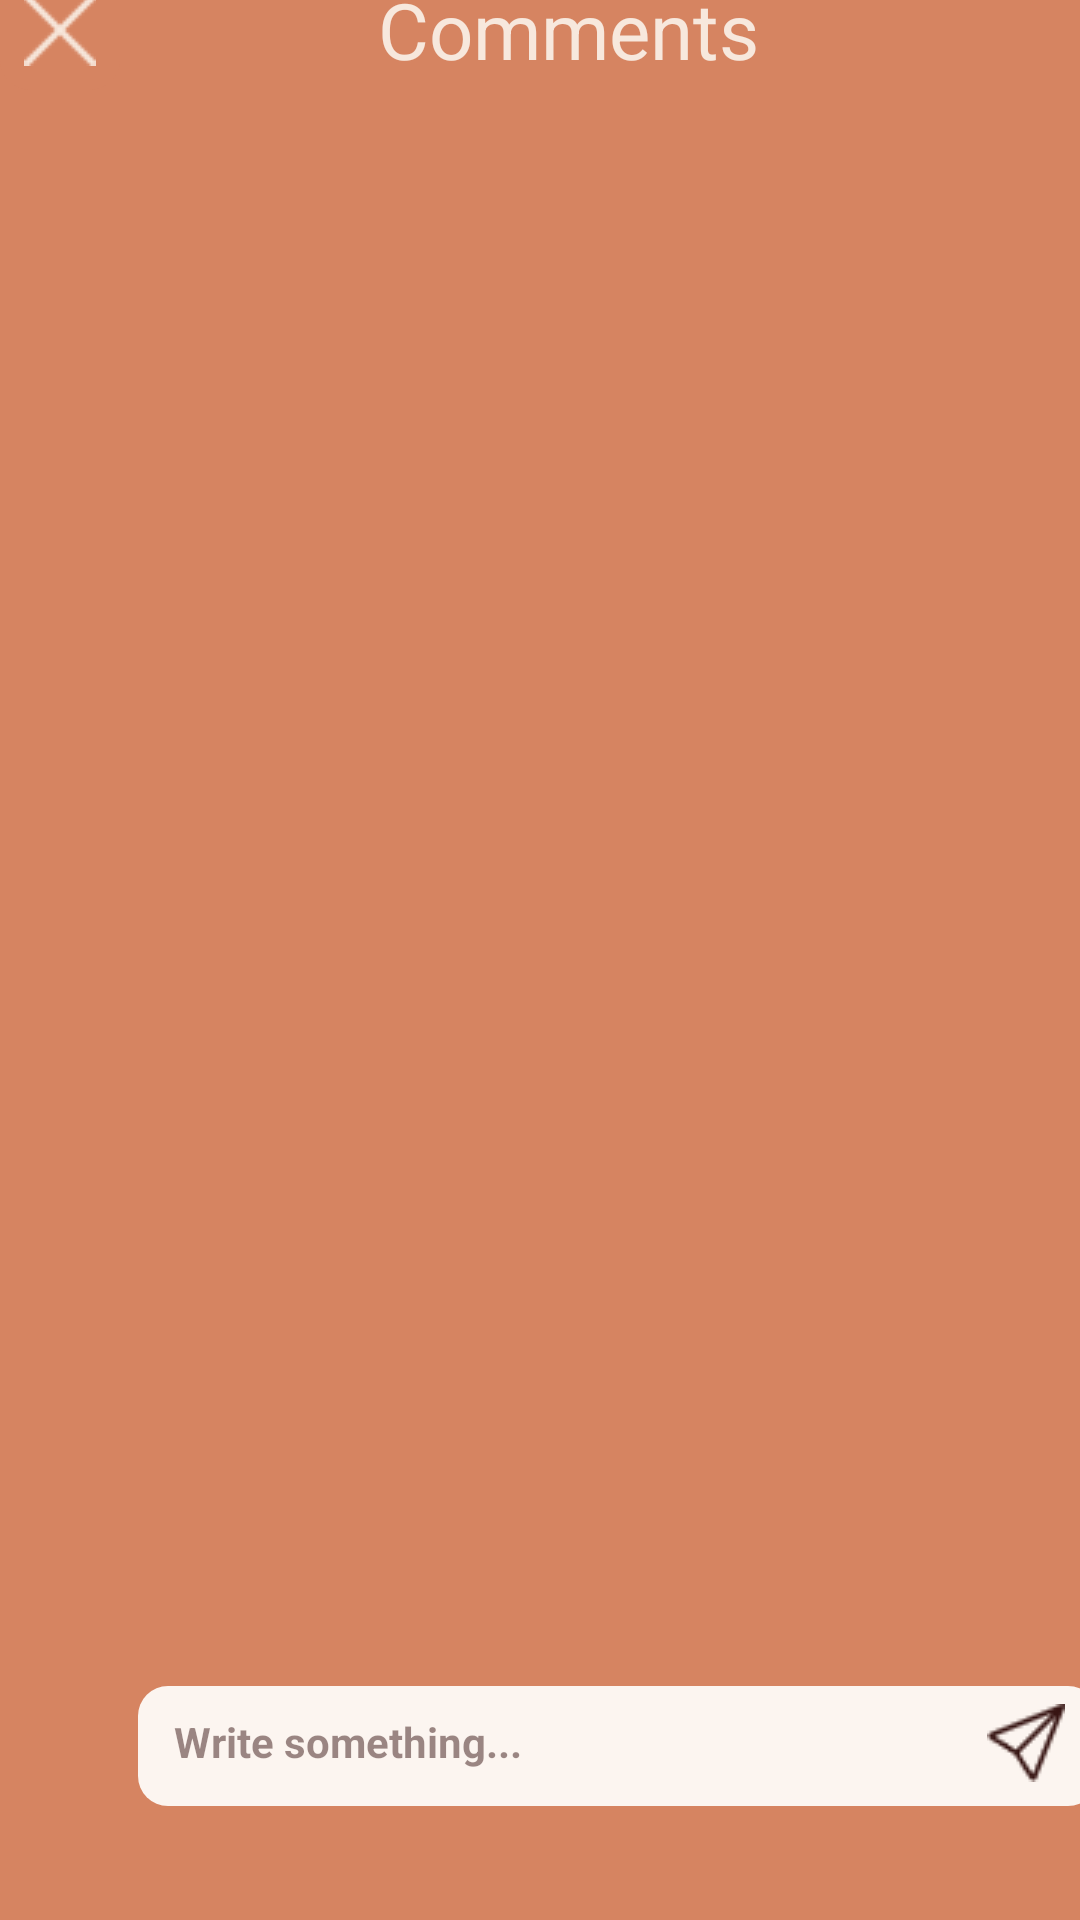

Locate icon controls on the screen. Image size 1080×1920, boxes as bbox(x1, y1, x2, y2).
send: bbox(987, 1704, 1065, 1782)
